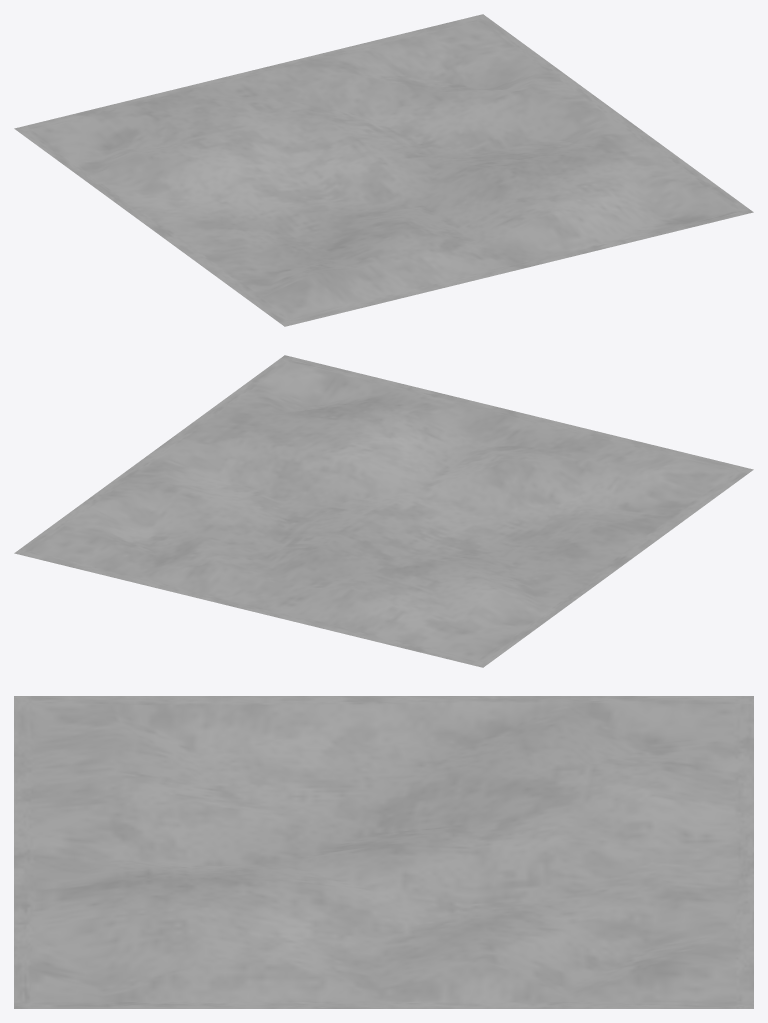
File: LowLands1.fbx
3 views of the same model, one above another, from view 1: azimuth 30°, elevation 25°; view 2: azimuth 150°, elevation 25°; view 3: azimuth 270°, elevation 25° (orthographic). The views are drawn at different scales.
Visible parts, largest first — view 1: LowLands1; view 2: LowLands1; view 3: LowLands1.
Part boxes in pixels (x1=…): LowLands1: x1=14, y1=14, x2=753, y2=326; LowLands1: x1=14, y1=355, x2=753, y2=667; LowLands1: x1=14, y1=696, x2=753, y2=1008.
Bounding box in the file's own units: 100 × 4.69 × 100.
